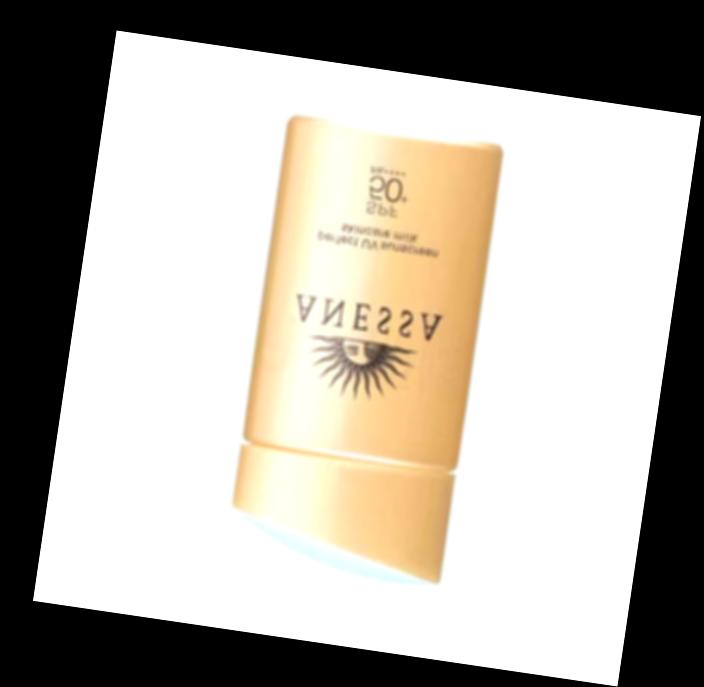cosmetic: (225, 119, 505, 589)
